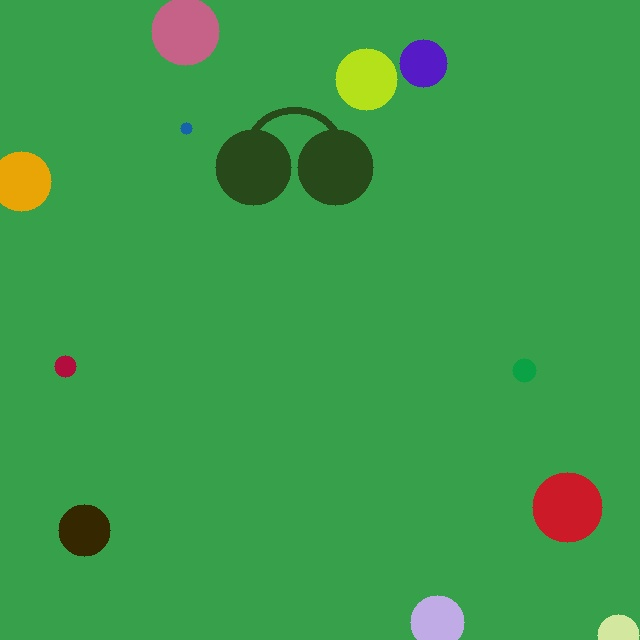over_ear: (211, 101, 377, 209)
